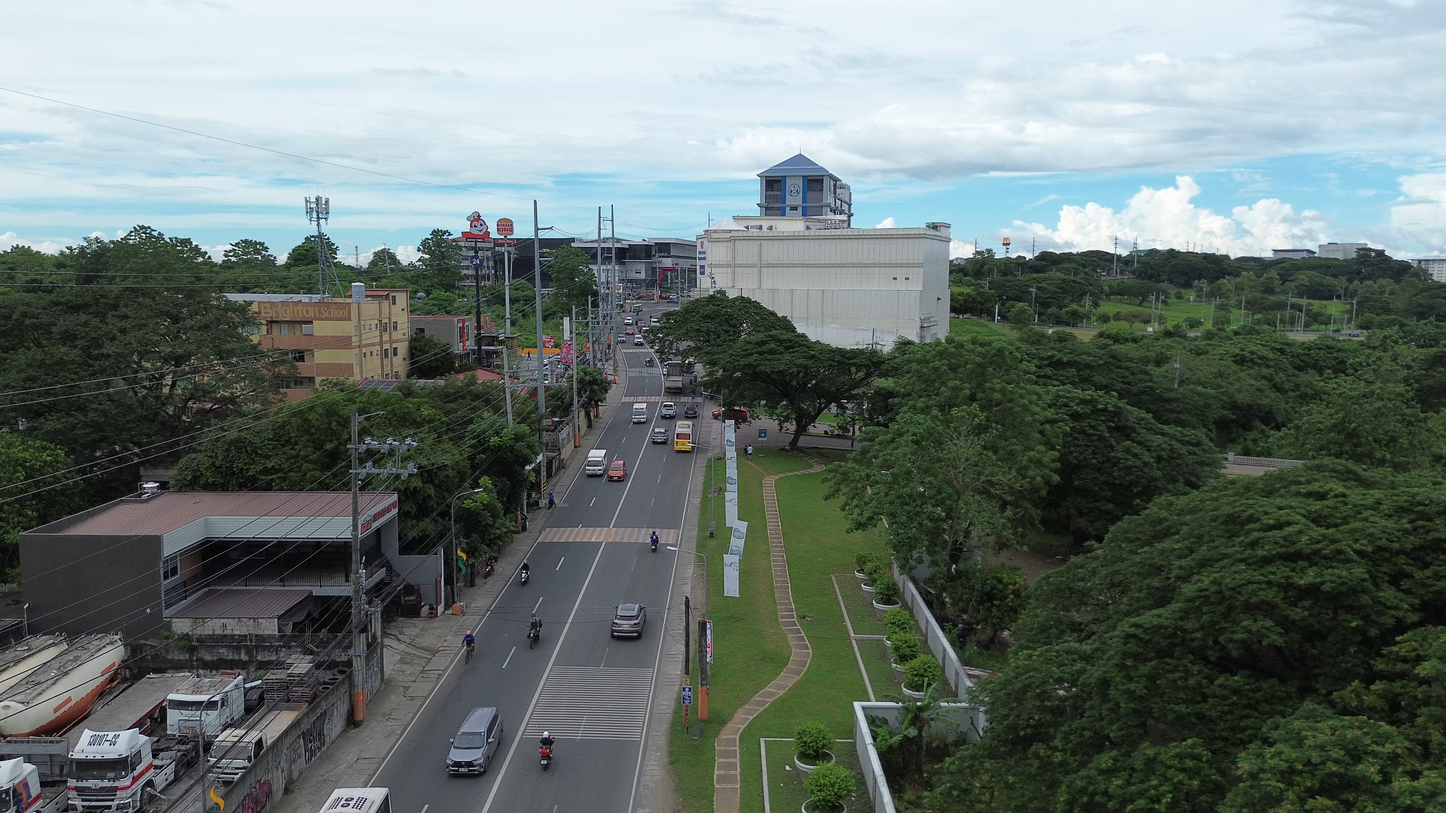car: (611, 603, 645, 637), (712, 407, 749, 422), (606, 460, 626, 481), (683, 403, 699, 419), (635, 335, 644, 345), (624, 327, 635, 335)
motorcycle: (539, 746, 552, 770), (528, 629, 540, 649), (520, 569, 529, 585)
vehicle: (0, 633, 124, 737), (68, 729, 196, 813), (207, 703, 304, 783), (167, 670, 244, 738), (0, 633, 69, 693), (0, 757, 69, 813), (446, 707, 503, 774), (320, 788, 391, 813), (673, 420, 693, 452), (584, 449, 607, 476), (712, 407, 749, 422), (665, 360, 682, 391), (631, 403, 648, 423), (659, 402, 677, 419), (651, 427, 669, 443), (634, 335, 645, 346), (644, 355, 654, 367), (624, 316, 635, 326), (631, 304, 643, 312)
